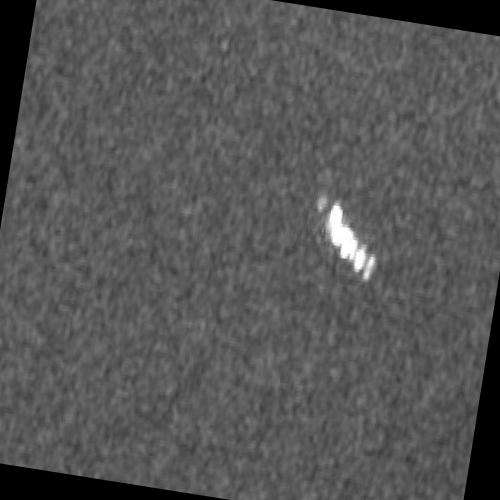ship: (326, 204, 377, 280)
